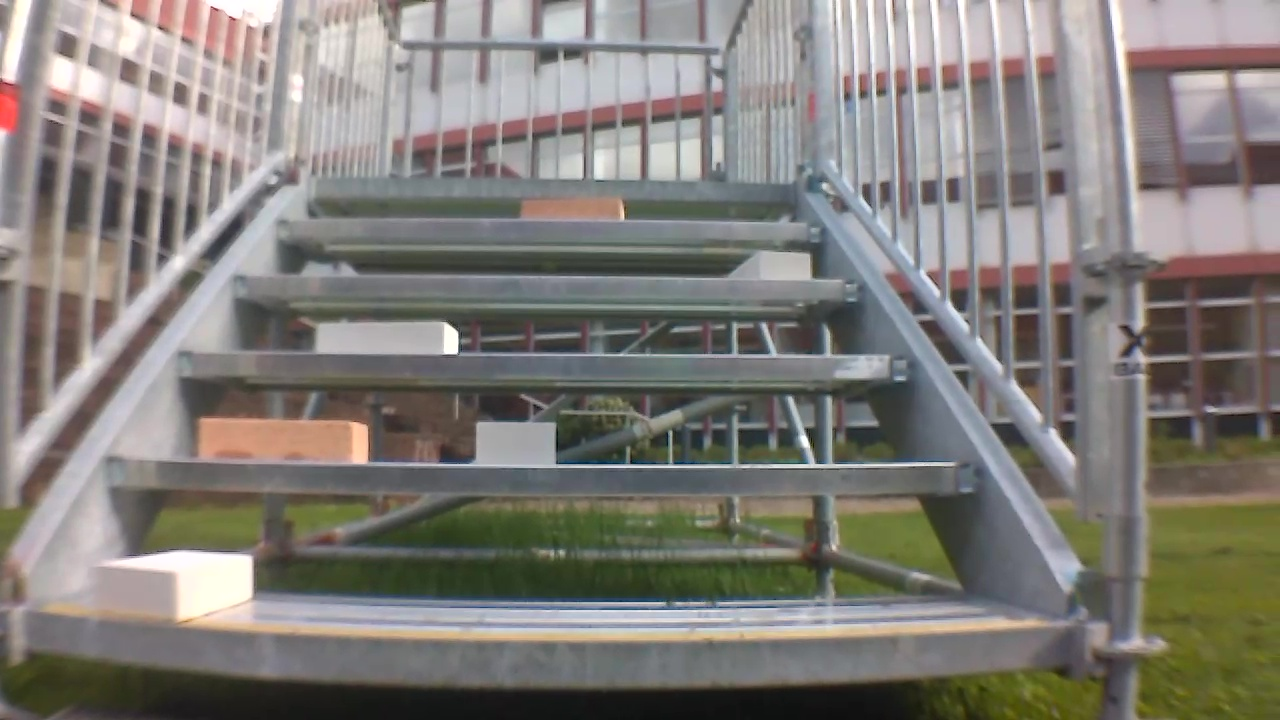brick: (98, 552, 251, 621), (201, 419, 366, 461), (316, 323, 456, 353), (477, 422, 554, 465), (524, 197, 623, 219), (731, 252, 809, 278)
edge: (30, 612, 1070, 688), (109, 458, 981, 496), (183, 350, 908, 381), (231, 274, 859, 299), (275, 218, 821, 241), (312, 177, 795, 201)
stairs: (7, 1, 1168, 714)
steps: (19, 165, 1085, 694)
